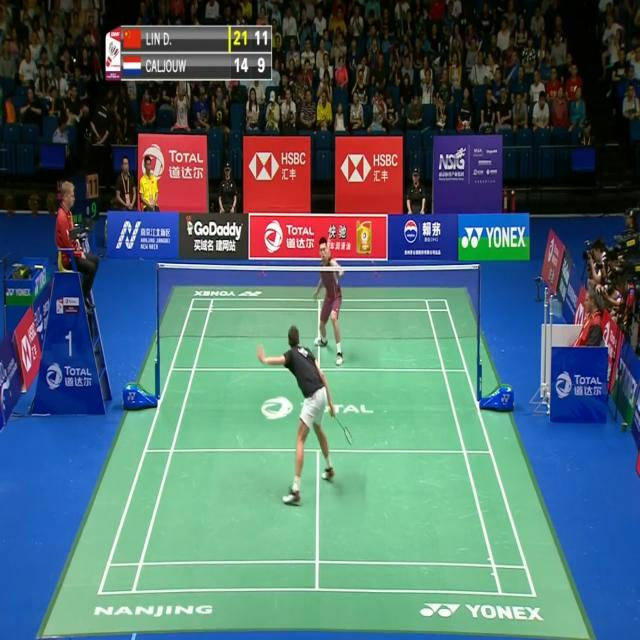Player1: (258, 316, 354, 510)
Player2: (312, 235, 349, 367)
